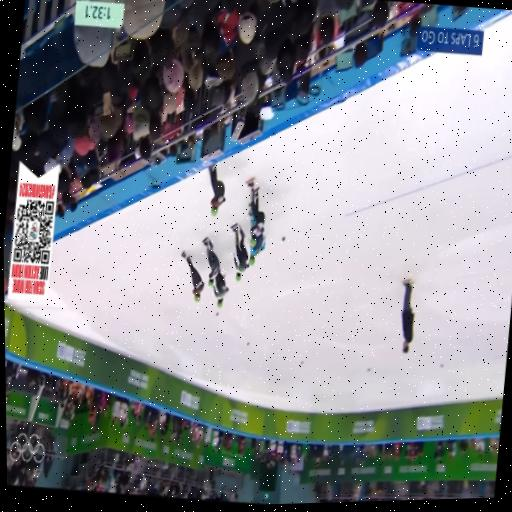Skater: (247, 179, 263, 245), (181, 252, 203, 300), (230, 223, 247, 280), (203, 236, 219, 286), (208, 165, 224, 215), (248, 229, 264, 264), (248, 234, 265, 264), (213, 272, 227, 307)
